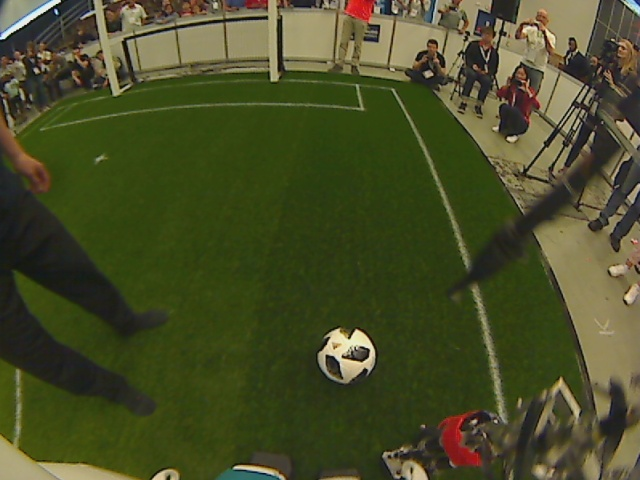ball: (315, 324, 378, 388)
